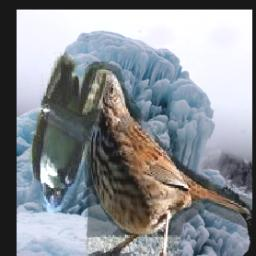Sparrow: (81, 62, 252, 256)
Swallow: (28, 46, 109, 214)
